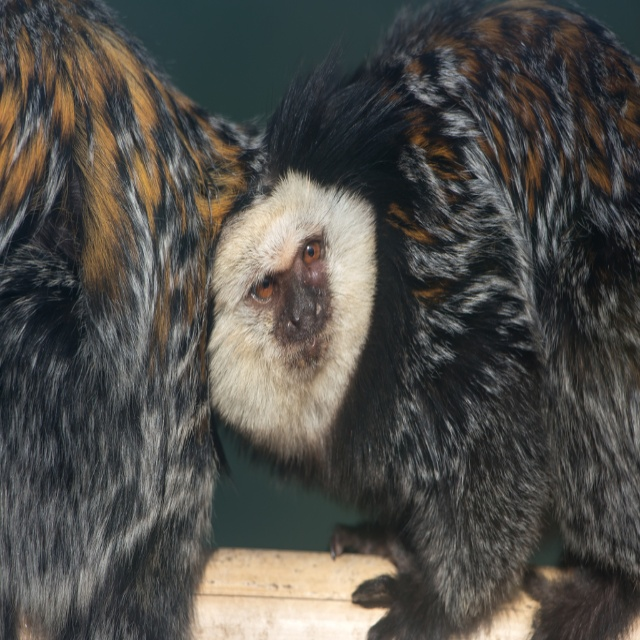Monkey: (206, 0, 640, 640), (0, 0, 275, 640)
